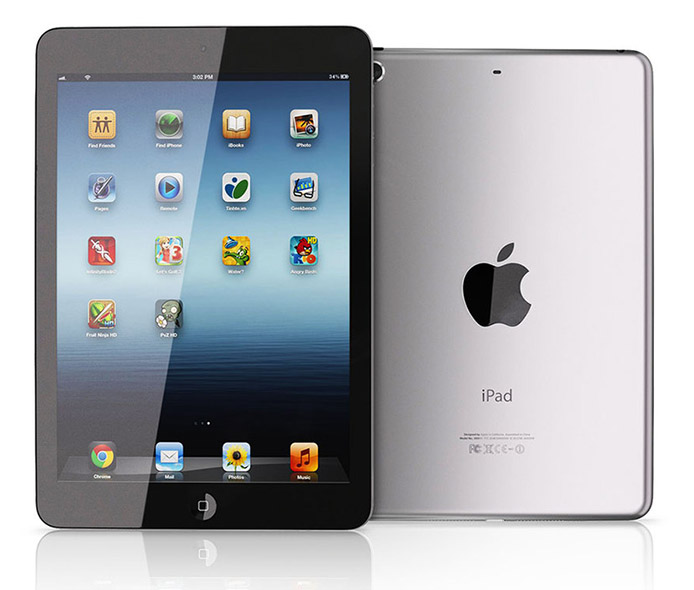apple: (452, 234, 540, 354)
